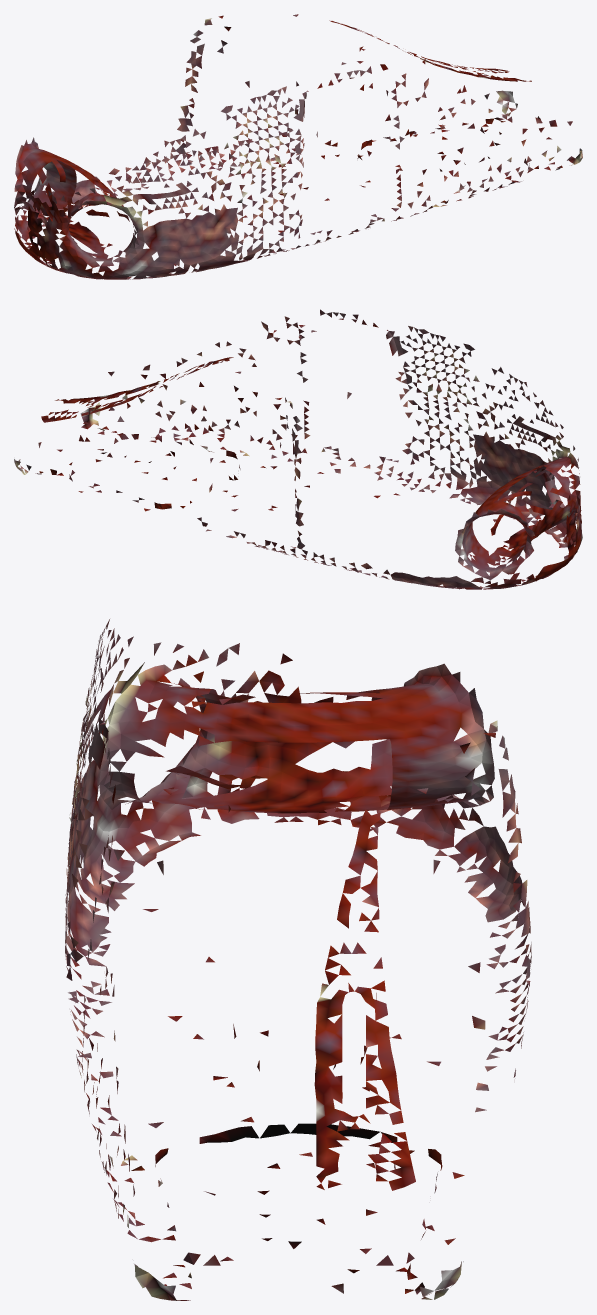
File: whistle_final1000.obj
3 views of the same model, one above another, from view 1: azimuth 30°, elevation 25°; view 2: azimuth 150°, elevation 25°; view 3: azimuth 270°, elevation 25° (orthographic). The views are drawn at different scales.
Size of the model in its own units: 1.92 by 0.575 by 0.7491.
